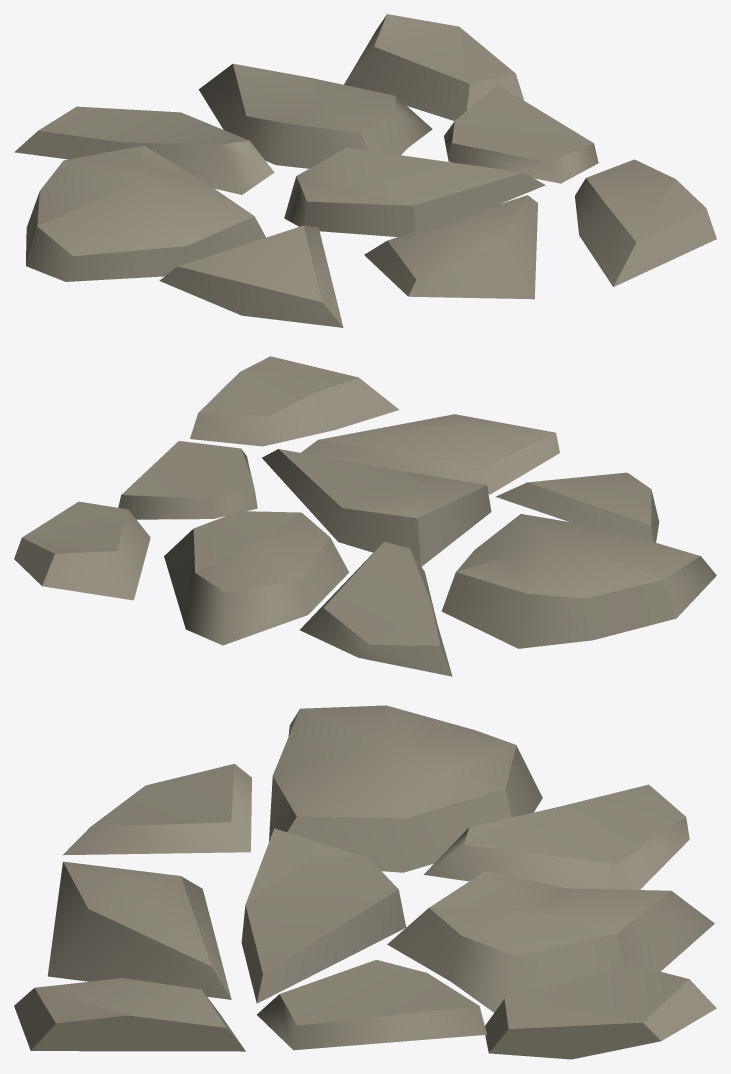
File: Stone_Path_Ending_L.glb
The picture shows the model from 3 angles, top to bottom: view 1: azimuth 30°, elevation 25°; view 2: azimuth 150°, elevation 25°; view 3: azimuth 270°, elevation 25°; orthographic projection. The views are drawn at different scales.
Parts seen in each view (by area): view 1: Stone_Path_Ending_L; view 2: Stone_Path_Ending_L; view 3: Stone_Path_Ending_L.
Part boxes in pixels (bbox=[...]): Stone_Path_Ending_L: bbox=[14, 14, 716, 327]; Stone_Path_Ending_L: bbox=[14, 356, 716, 676]; Stone_Path_Ending_L: bbox=[14, 705, 716, 1059].
Bounding box in the file's own units: 1.02 × 0.1501 × 0.9638.
